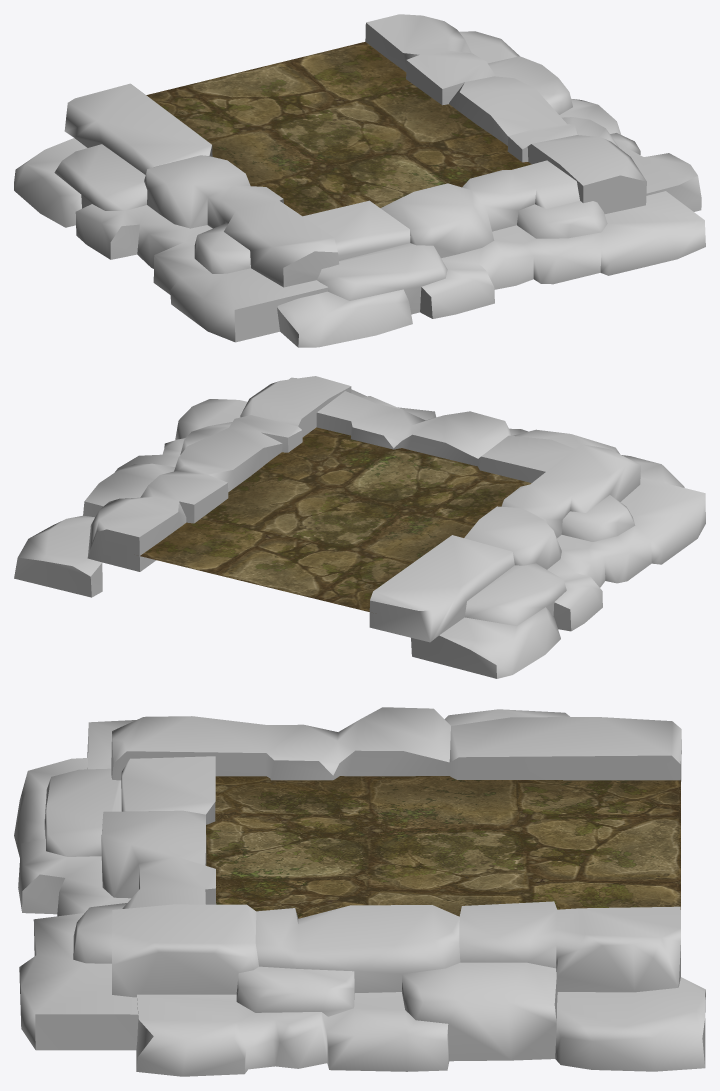
The model's file is Road_End_01.fbx.
3 views of the same model, one above another, from view 1: azimuth 30°, elevation 25°; view 2: azimuth 150°, elevation 25°; view 3: azimuth 270°, elevation 25° (orthographic). The views are drawn at different scales.
Visible parts, largest first — view 1: Road_End_01_LOD0; view 2: Road_End_01_LOD0; view 3: Road_End_01_LOD0.
Part boxes in pixels (<box>): Road_End_01_LOD0: <box>14,14,705,347</box>; Road_End_01_LOD0: <box>14,376,705,678</box>; Road_End_01_LOD0: <box>14,707,705,1076</box>.
Size of what is drawn, in the model's own units: 4.03 by 3.65 by 0.5041.
